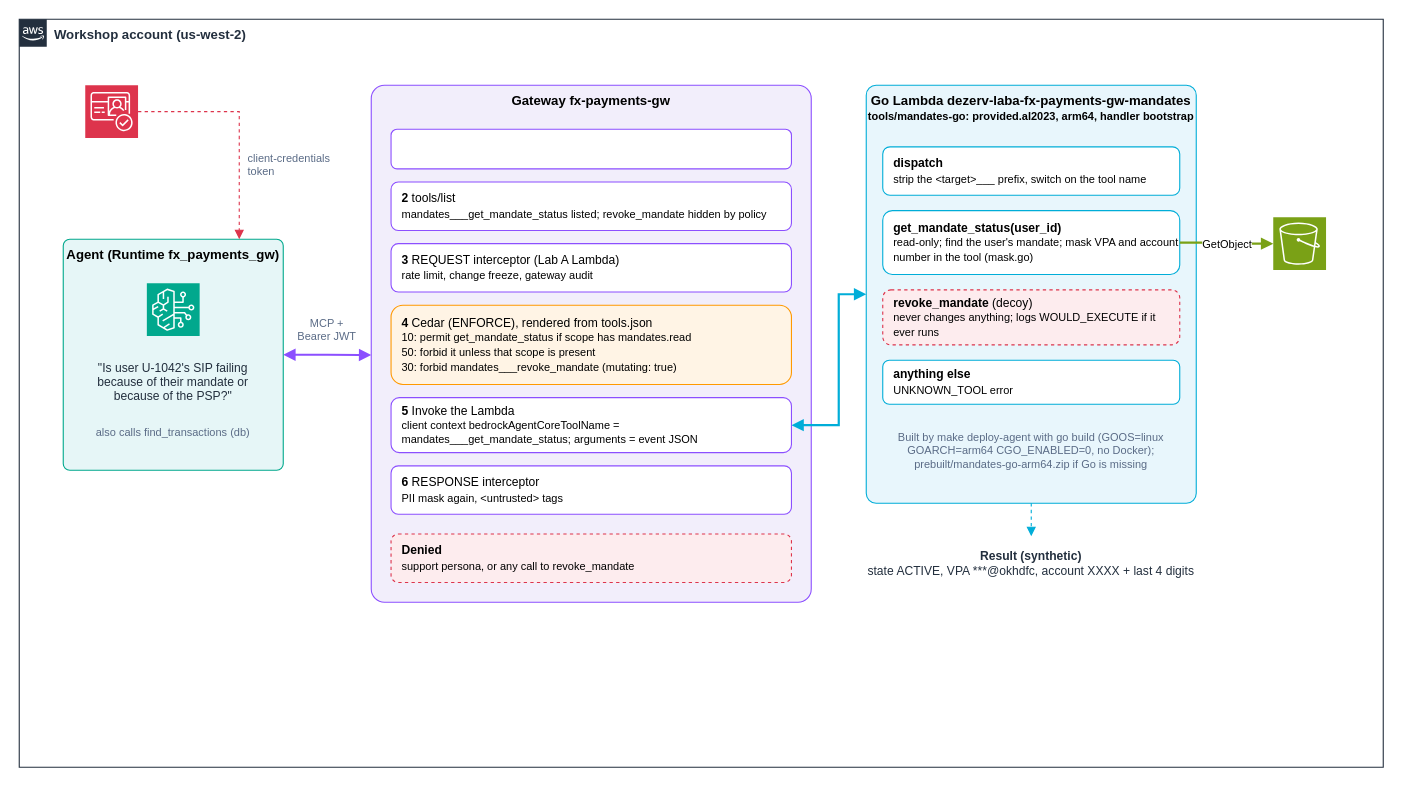
Image size: 1403x787. Some labels were removed from this diagram. The shapes that lost their labels are listed below. From the top down, each one's centre as x and y in pixels, then its label:
At point (111, 111): "Amazon Cognito oncall: has payments/mandates.read support: does not".
At point (590, 148): "1 Validate JWT (Cognito)".
At point (1299, 243): "S3 data bucket mongo/mandates.json".
